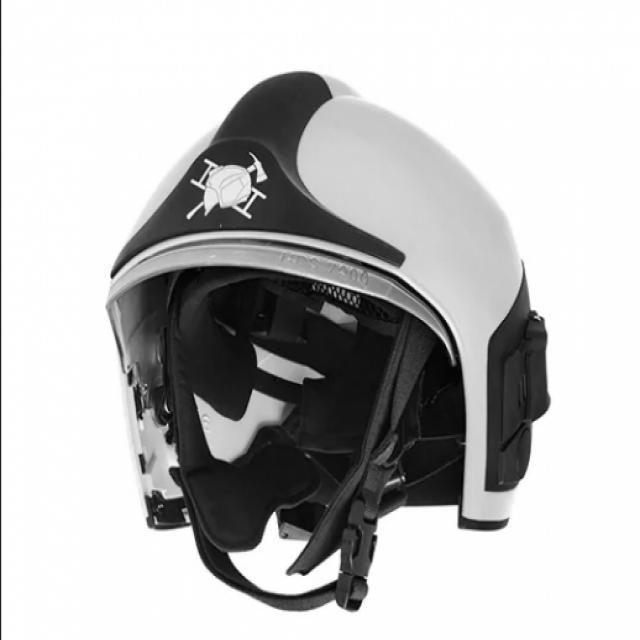safety_helmet: (105, 71, 552, 607)
